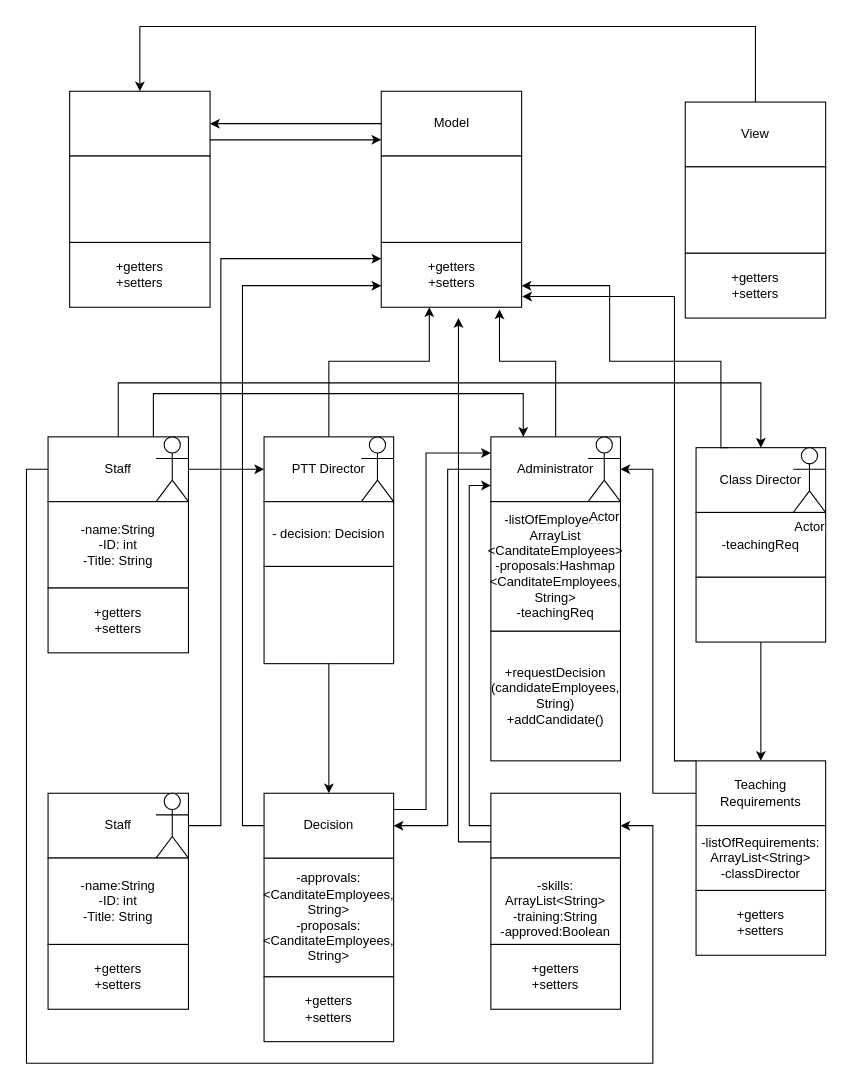
The diagram is 855 pixels wide and 1091 high, and some of its shapes have lost their labels. The shapes that lost their labels are listed below. From the top down, each one's centre as x and y in pixels, then its label:
At point (139, 123): "Controller".
At point (328, 614): "+decide( Decision): decision +removeRejects: <CanditateEmployees, String>".
At point (760, 609): "+setTeachReq() +createTeachReq()".
At point (555, 825): "Candidate Employee".
